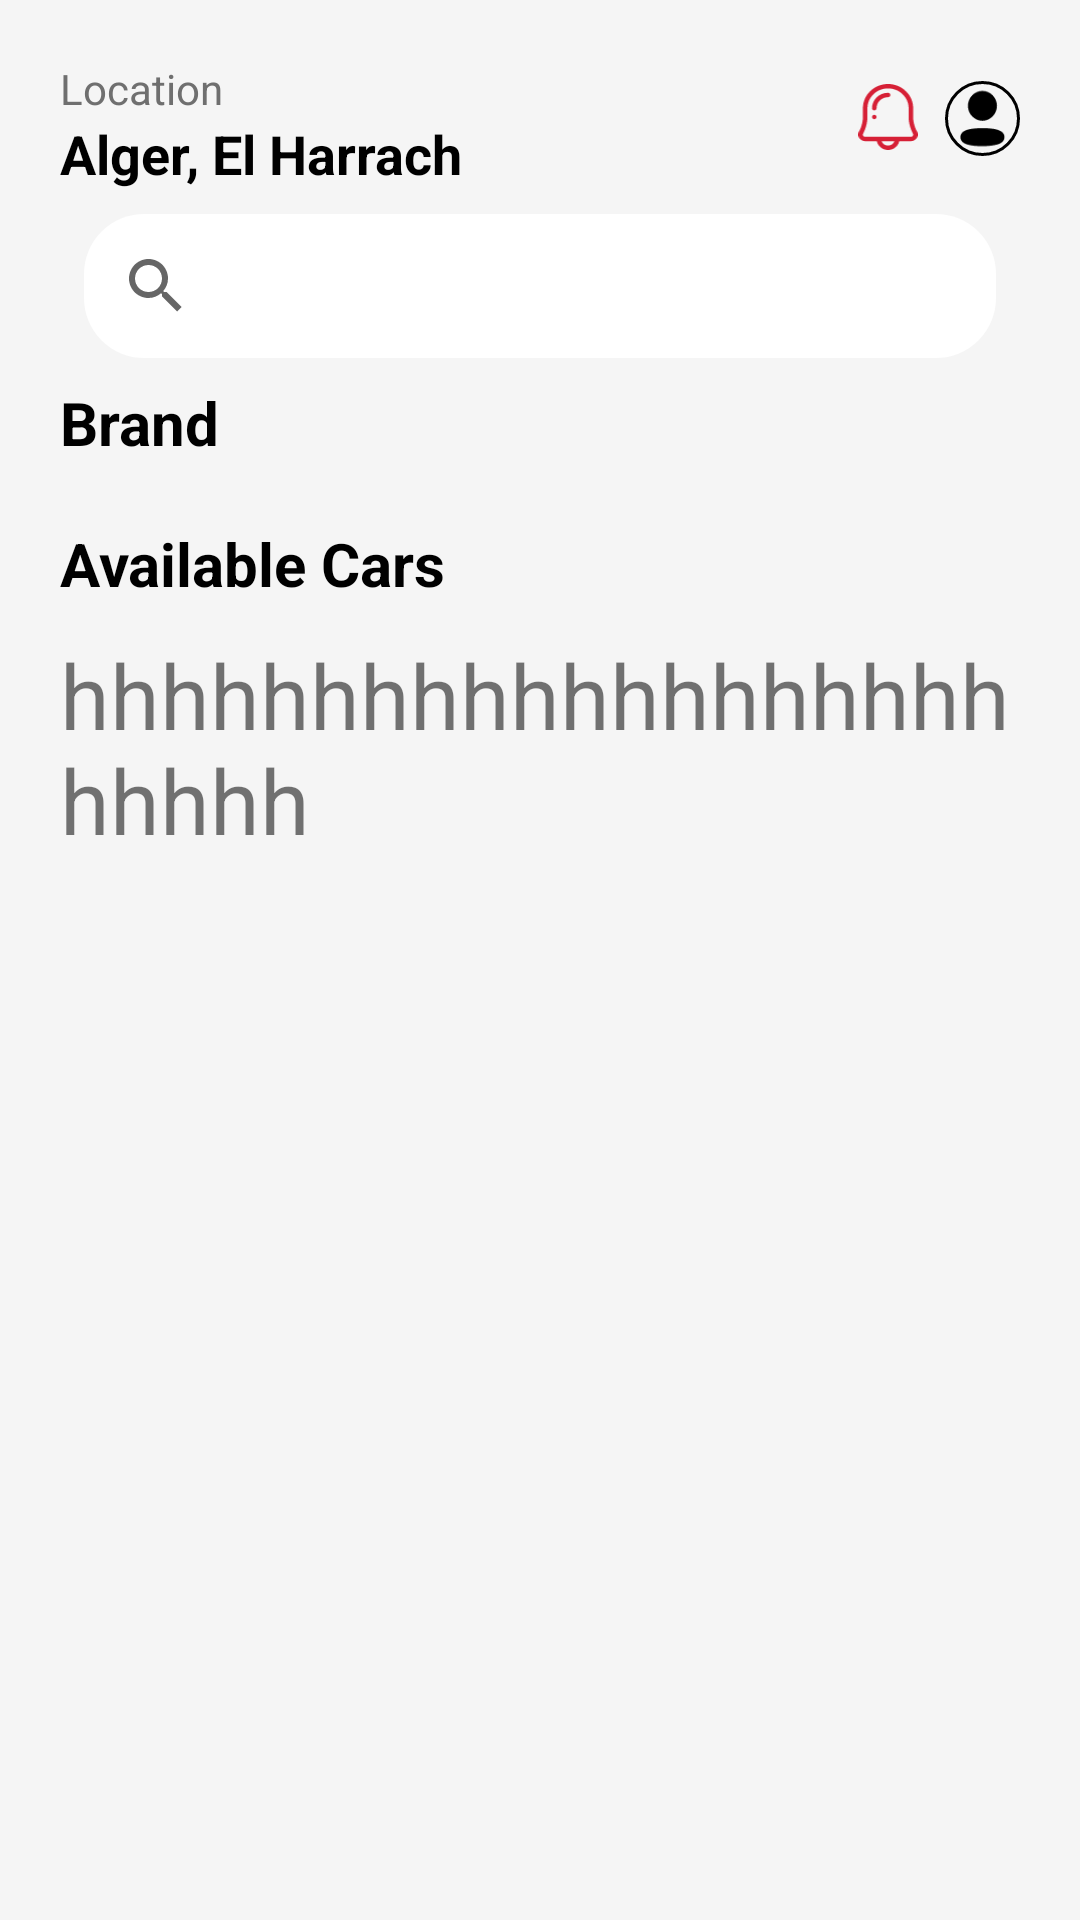

Named icons in this screenshot (1080px×1920px) and their centers, (x=x, y=y):
notif: (x=888, y=117)
profile: (x=982, y=118)
